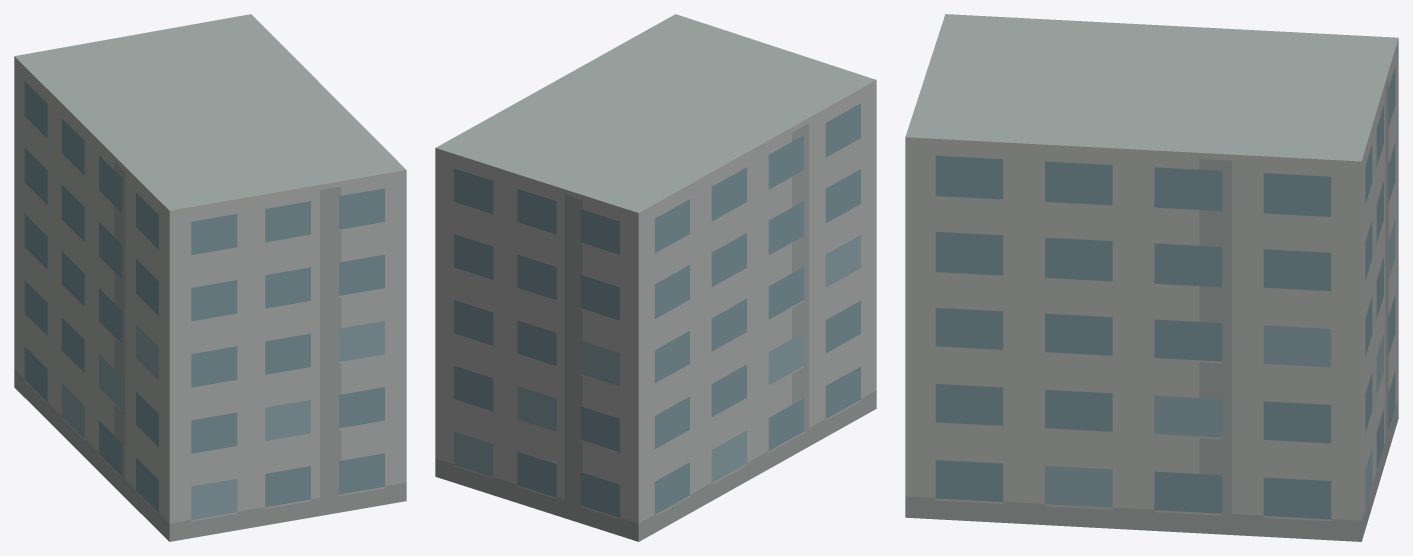
File: survey-upis-32805631.glb
The picture shows the model from 3 angles, left to right: view 1: azimuth 30°, elevation 25°; view 2: azimuth 150°, elevation 25°; view 3: azimuth 270°, elevation 25°; orthographic projection. The views are drawn at different scales.
Parts seen in each view (by area): view 1: survey-upis-32805631.tmp; view 2: survey-upis-32805631.tmp; view 3: survey-upis-32805631.tmp.
Part boxes in pixels (x1=…): survey-upis-32805631.tmp: x1=14, y1=14, x2=406, y2=541; survey-upis-32805631.tmp: x1=435, y1=14, x2=876, y2=541; survey-upis-32805631.tmp: x1=905, y1=14, x2=1398, y2=541.
Bounding box in the file's own units: 12.69 × 15.25 × 17.93.
